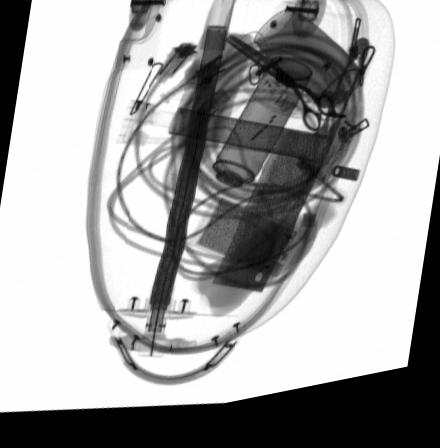Knife: (210, 52, 369, 304)
Powerbank: (189, 199, 302, 289)
Scissors: (225, 40, 348, 142)
Sprayer: (197, 66, 312, 206)
